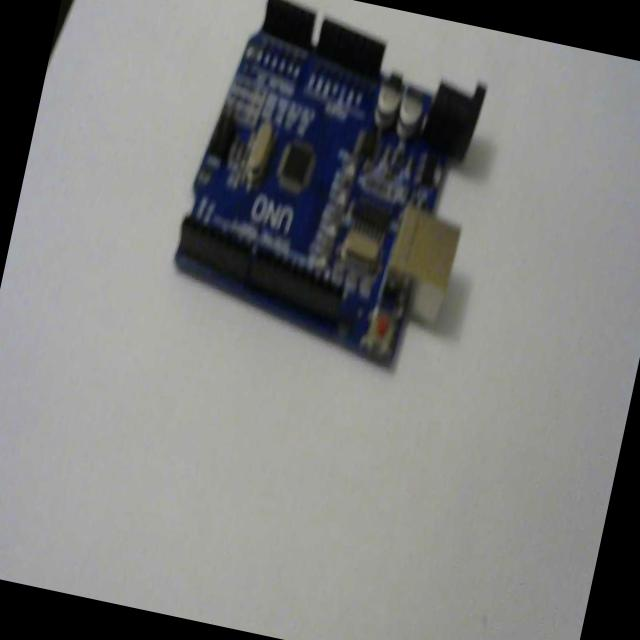arduino: (144, 0, 515, 399)
